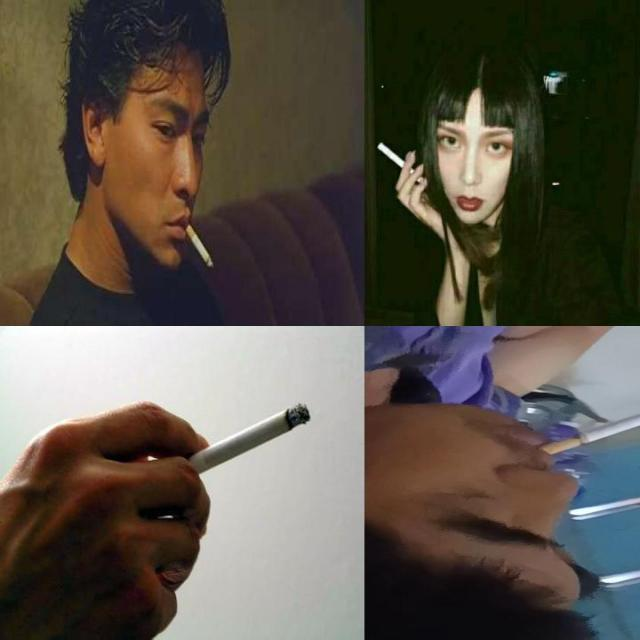smoking: (170, 402, 312, 484), (538, 400, 640, 456), (376, 140, 424, 184), (184, 220, 214, 270)
